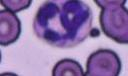N: (32, 0, 94, 47)
